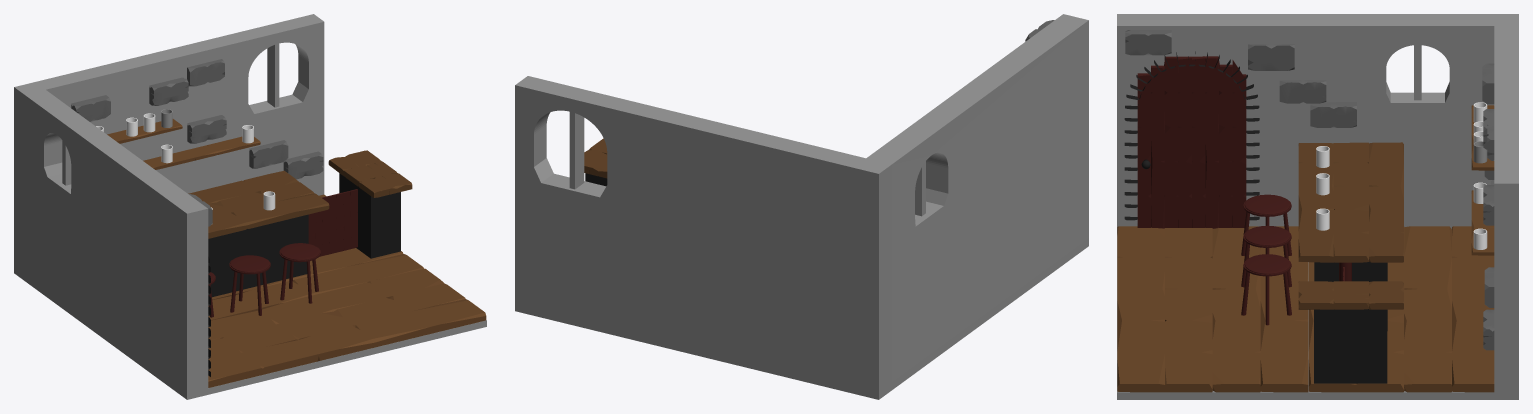
Rendered from projet_vue_isometrique_bar.glb.
The picture shows the model from 3 angles, left to right: view 1: azimuth 30°, elevation 25°; view 2: azimuth 150°, elevation 25°; view 3: azimuth 270°, elevation 25°; orthographic projection. The views are drawn at different scales.
Parts seen in each view (by area): view 1: Cube, Cube.008, Cube.031, Cube.032, Cube.039, Cube.030, Cube.010, Cylindre.006, Cylindre.004, Cube.009; view 2: Cube, Cube.032; view 3: Cube, Cube.008, Icosphère.046, Cube.032, Cube.039, Cube.031, Icosphère.037, Cylindre.004, Cylindre.005, Cylindre.006, Cube.010, Cube.009.
Boxes of the visible parts, x1,y1,x2,y2 form: Cube: [14, 14, 486, 399]; Cube.008: [208, 194, 486, 387]; Cube.031: [208, 173, 400, 297]; Cube.032: [188, 150, 412, 238]; Cube.039: [71, 59, 323, 226]; Cube.030: [308, 189, 357, 256]; Cube.010: [143, 136, 260, 169]; Cylindre.006: [229, 255, 270, 315]; Cylindre.004: [279, 243, 320, 303]; Cube.009: [107, 119, 182, 143]; Cube: [515, 14, 1088, 399]; Cube.032: [584, 138, 607, 178]; Cube: [1117, 14, 1518, 399]; Cube.008: [1117, 226, 1494, 392]; Icosphère.046: [1137, 56, 1246, 228]; Cube.032: [1298, 142, 1403, 309]; Cube.039: [1125, 30, 1494, 350]; Cube.031: [1314, 261, 1387, 383]; Icosphère.037: [1124, 51, 1259, 220]; Cylindre.004: [1241, 254, 1291, 325]; Cylindre.005: [1241, 194, 1291, 255]; Cylindre.006: [1241, 225, 1291, 287]; Cube.010: [1471, 190, 1494, 255]; Cube.009: [1471, 105, 1494, 170].
Bounding box in the file's own units: 5.12 × 3 × 5.06.
